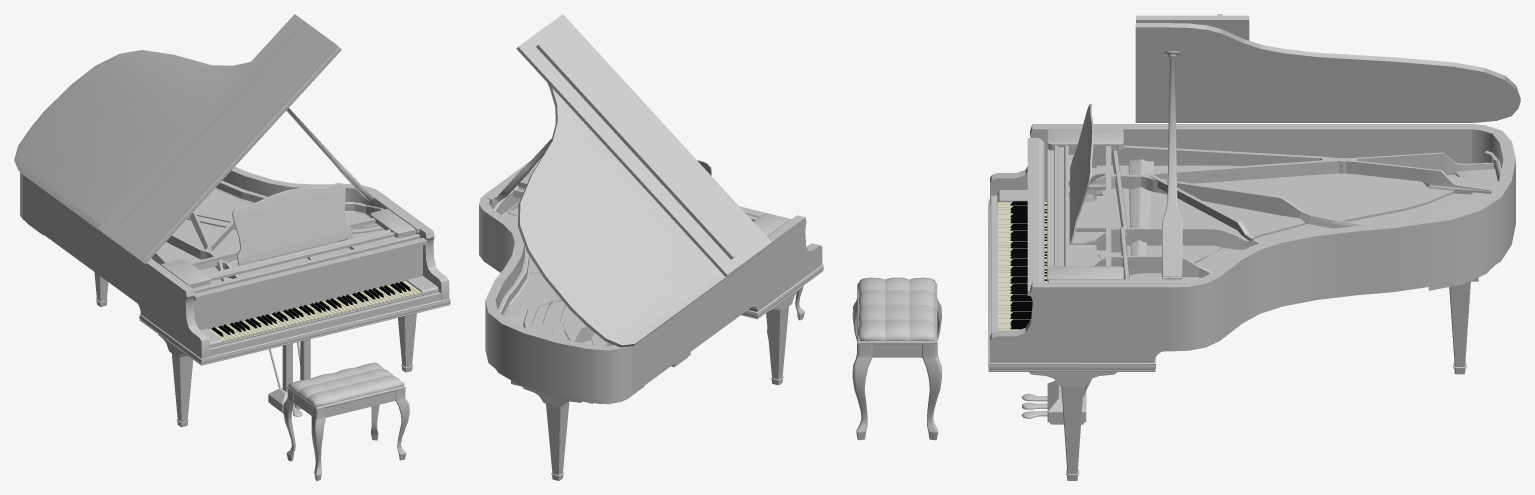
Rendered from Piano.fbx.
3 views of the same model, side by side, from view 1: azimuth 30°, elevation 25°; view 2: azimuth 150°, elevation 25°; view 3: azimuth 270°, elevation 25° (orthographic). The views are drawn at different scales.
Parts seen in each view (by area): view 1: Piano, PianoChair_MSH; view 2: Piano; view 3: Piano, PianoChair_MSH.
Boxes of the visible parts, x1,y1,x2,y2 form: Piano: (14, 14, 450, 427); PianoChair_MSH: (283, 362, 409, 480); Piano: (479, 14, 823, 480); Piano: (988, 14, 1520, 480); PianoChair_MSH: (852, 277, 941, 440).
Bounding box in the file's own units: 209 × 259 × 350.
